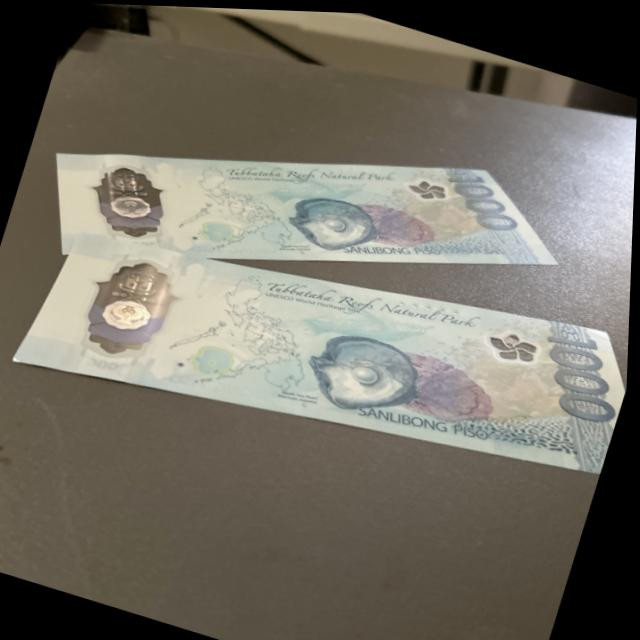clear_window: (59, 239, 200, 385), (72, 154, 191, 246)
sampaguita: (481, 314, 548, 367), (407, 166, 457, 203)
value: (528, 317, 631, 421), (438, 164, 528, 240)
